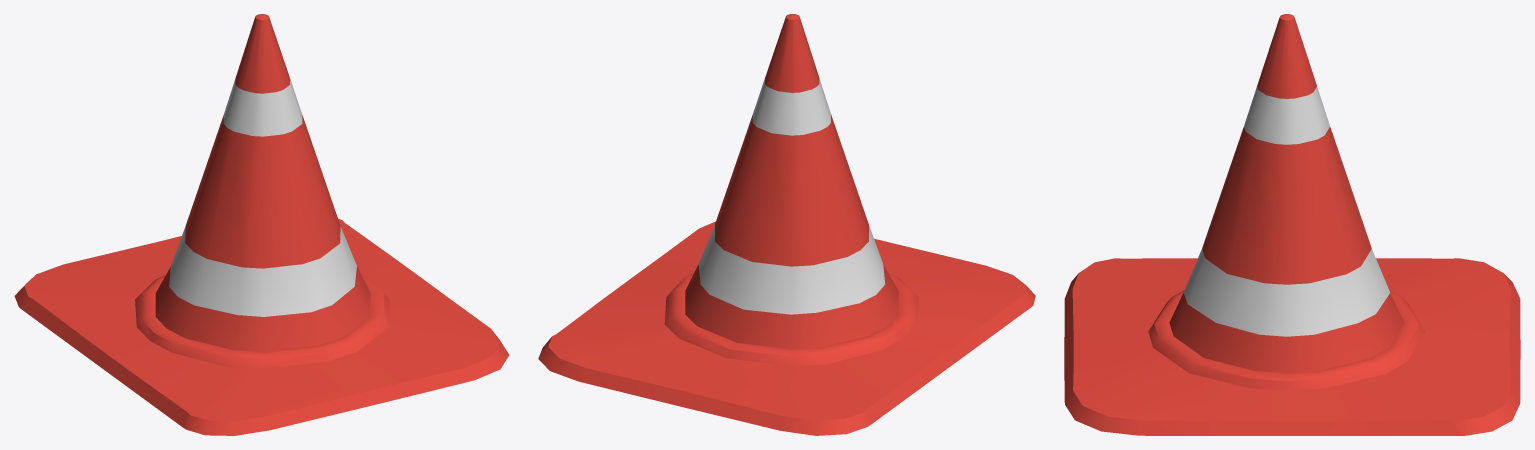
Rendered from duba.fbx.
The picture shows the model from 3 angles, left to right: view 1: azimuth 30°, elevation 25°; view 2: azimuth 150°, elevation 25°; view 3: azimuth 270°, elevation 25°; orthographic projection. The views are drawn at different scales.
Parts seen in each view (by area): view 1: duba; view 2: duba; view 3: duba.
Boxes of the visible parts, box(x1,y1,x2,y2) form: duba: box(14, 14, 509, 435); duba: box(538, 14, 1035, 435); duba: box(1064, 14, 1520, 435).
Size of the model in its own units: 0.4323 by 0.397 by 0.4912.
